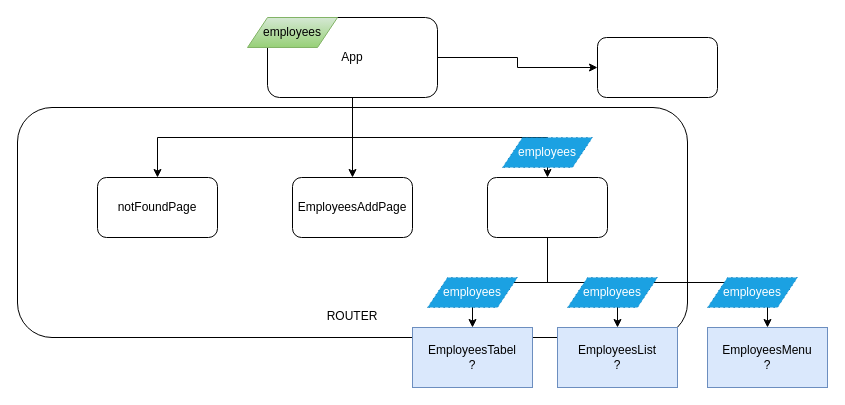
This 845x405 diagram has some shape labels left out. Here are the shapes that lost their labels. From the top down, the centre of each, then its label:
point (657, 67): Menu
point (547, 207): EmployeesPage
